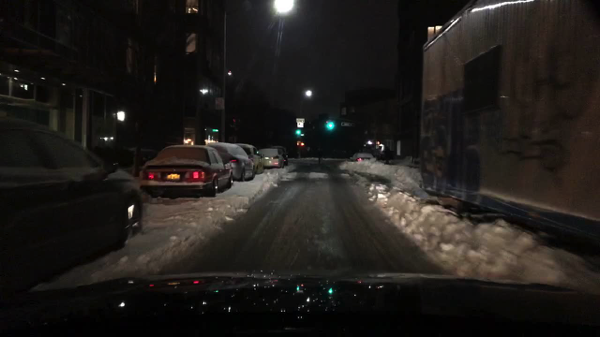car: (0, 117, 144, 292), (140, 145, 234, 199), (205, 143, 256, 181), (232, 143, 264, 174), (258, 149, 284, 169), (135, 147, 157, 167), (272, 146, 287, 166), (349, 153, 373, 162)
person: (382, 146, 391, 165), (317, 147, 324, 164)
traffic light: (296, 142, 305, 146)
traffic sign: (214, 97, 225, 110), (341, 122, 355, 127), (296, 118, 304, 124), (297, 122, 304, 128)
truck: (418, 0, 598, 251)
